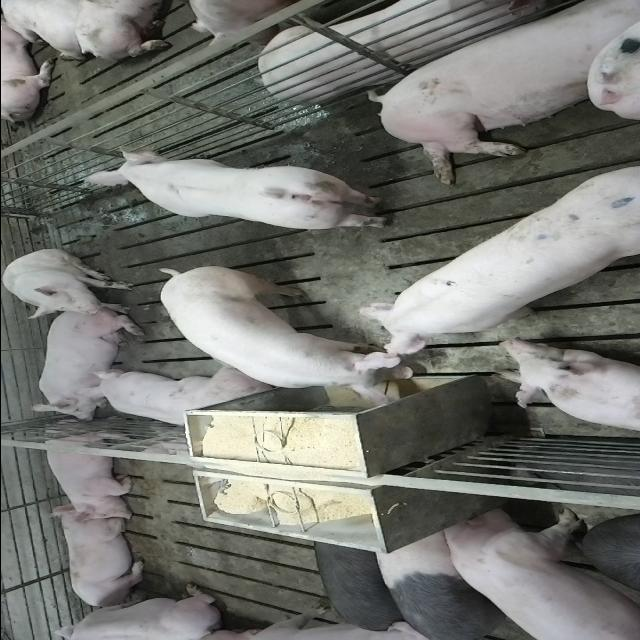Lateral_lying: (362, 5, 636, 186), (248, 0, 562, 103)
Sitting: (2, 249, 136, 318)
Standing: (352, 160, 634, 360), (160, 264, 418, 402), (436, 504, 640, 638), (82, 148, 398, 232), (372, 527, 540, 639), (308, 532, 406, 630)
Sternal_lying: (494, 342, 640, 436), (26, 313, 140, 422), (86, 370, 273, 430), (41, 584, 224, 638), (38, 424, 138, 522), (52, 509, 149, 610)
